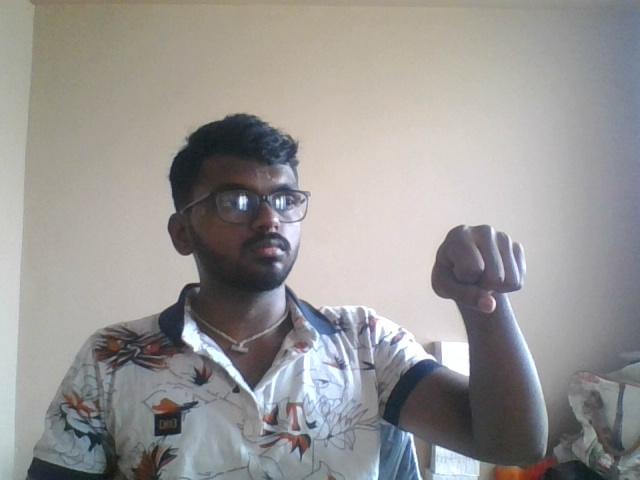Yes: (409, 201, 543, 362)
